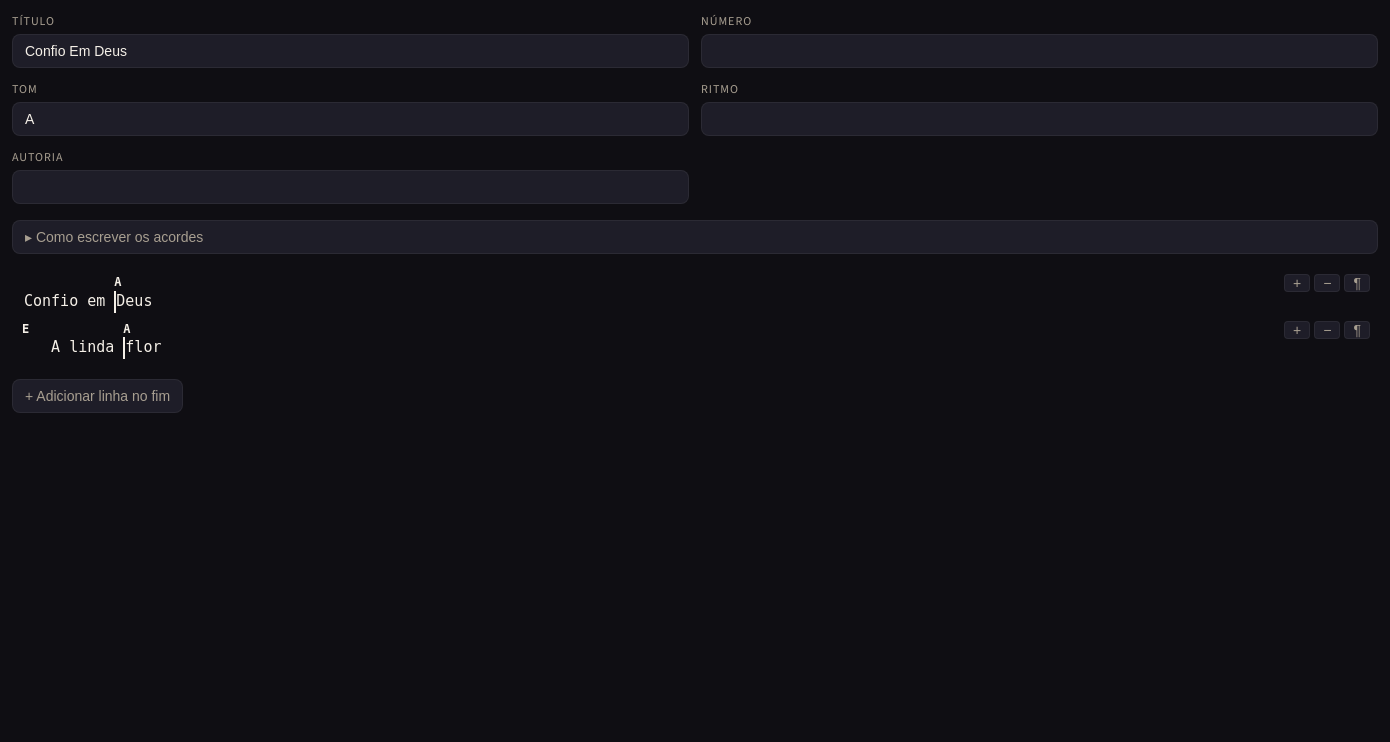
Test: inserir símbolo sem linha aberta › abrir uma linha habilita
Click the button "▸ Como escrever os acordes" at (118,237), box [13,221,1377,253]
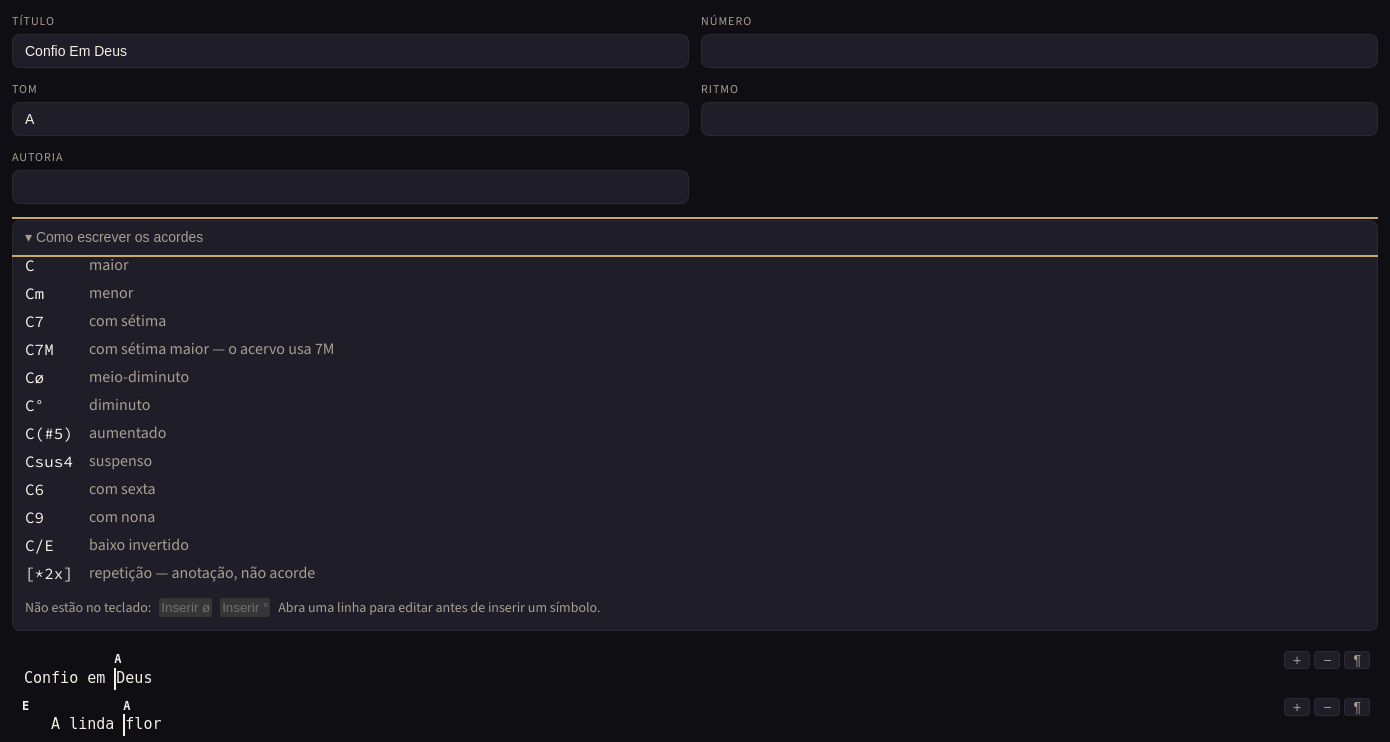
Click the text "Confio em" at (68,679), box [22,668,114,690]
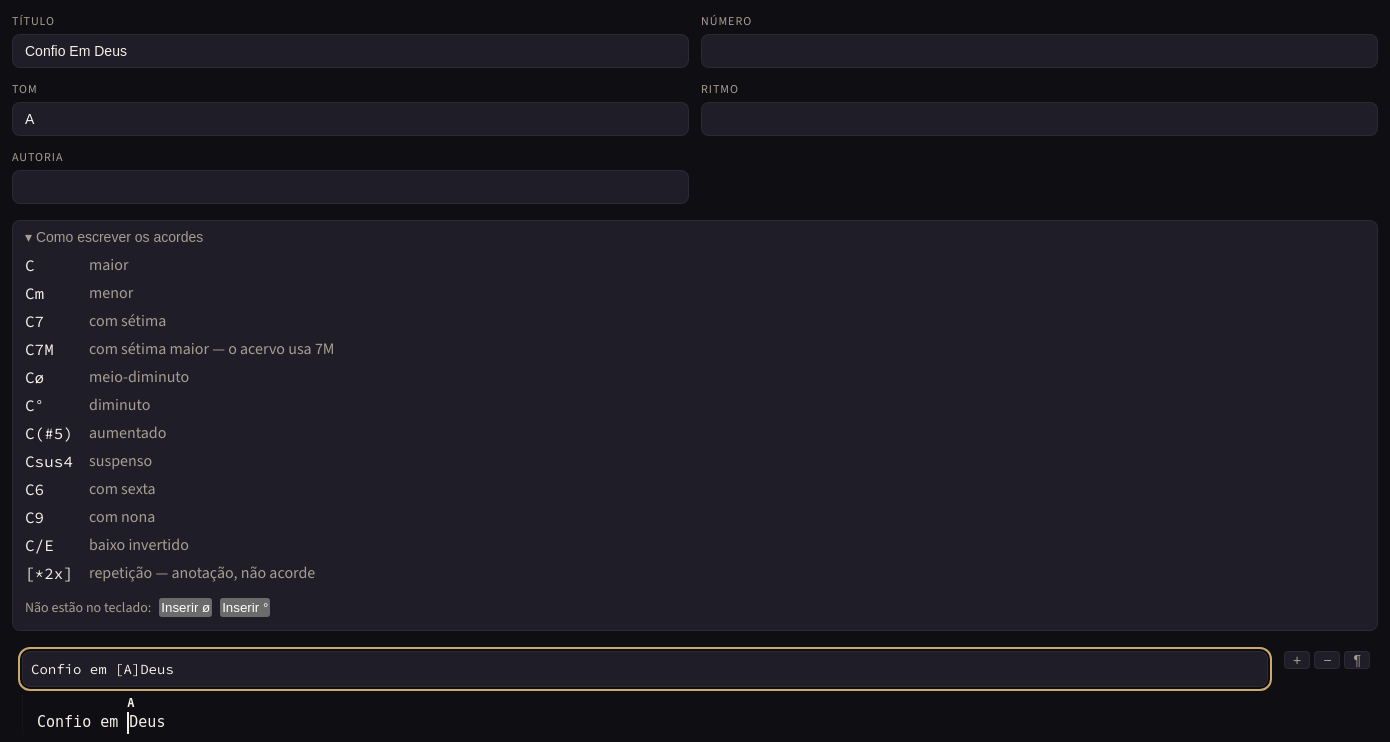
Expected: the button "Inserir ø" is enabled, [159,598,212,617]
